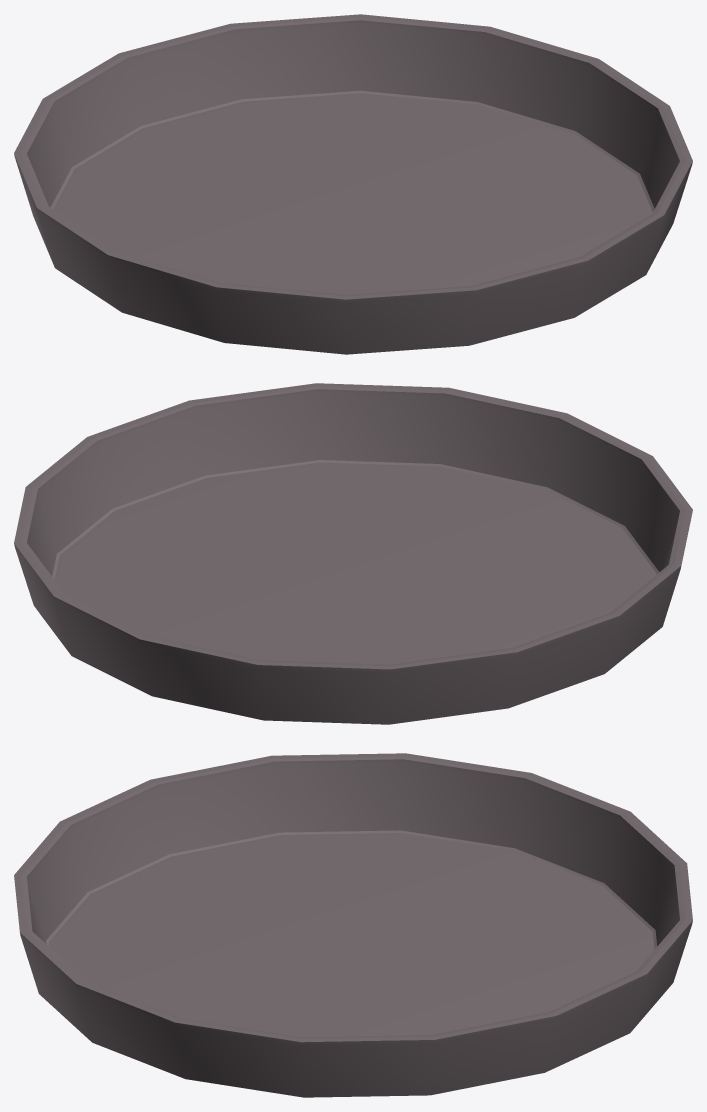
Rendered from cake tin circular.fbx.
3 views of the same model, one above another, from view 1: azimuth 30°, elevation 25°; view 2: azimuth 150°, elevation 25°; view 3: azimuth 270°, elevation 25° (orthographic).
Visible parts, largest first — view 1: pie pan; view 2: pie pan; view 3: pie pan.
Part boxes in pixels (left/top/right/bottom): pie pan: left=14, top=14, right=692, bottom=354; pie pan: left=14, top=383, right=692, bottom=724; pie pan: left=14, top=753, right=692, bottom=1097.
Size of the model in its own units: 31.15 by 3.44 by 31.15.
